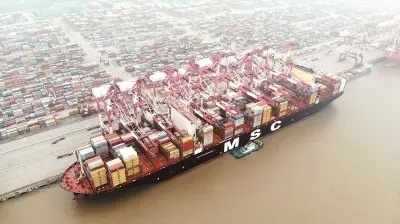Cargoship: (62, 70, 348, 195)
otherboat: (231, 139, 268, 161)
